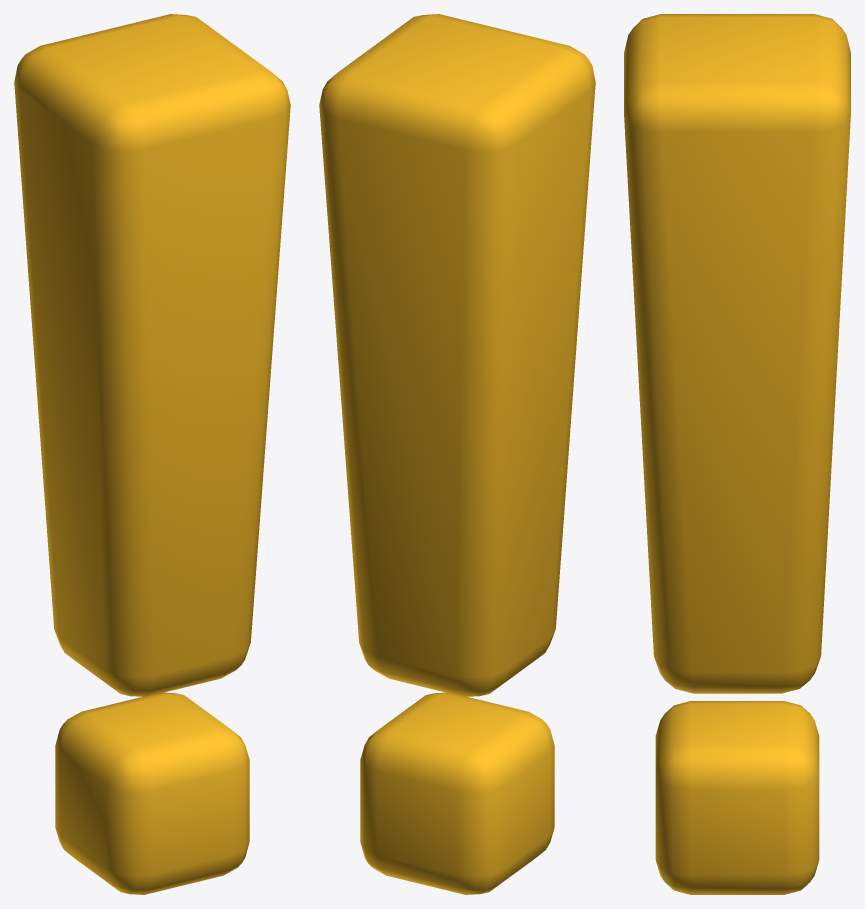
File: Mark.fbx
3 views of the same model, side by side, from view 1: azimuth 30°, elevation 25°; view 2: azimuth 150°, elevation 25°; view 3: azimuth 270°, elevation 25° (orthographic).
Visible parts, largest first — view 1: Cube; view 2: Cube; view 3: Cube.
Boxes of the visible parts, x1,y1,x2,y2 form: Cube: (14,14,290,894); Cube: (319,14,595,894); Cube: (624,14,850,894).
Size of the model in its own units: 74.49 by 298 by 74.49.
